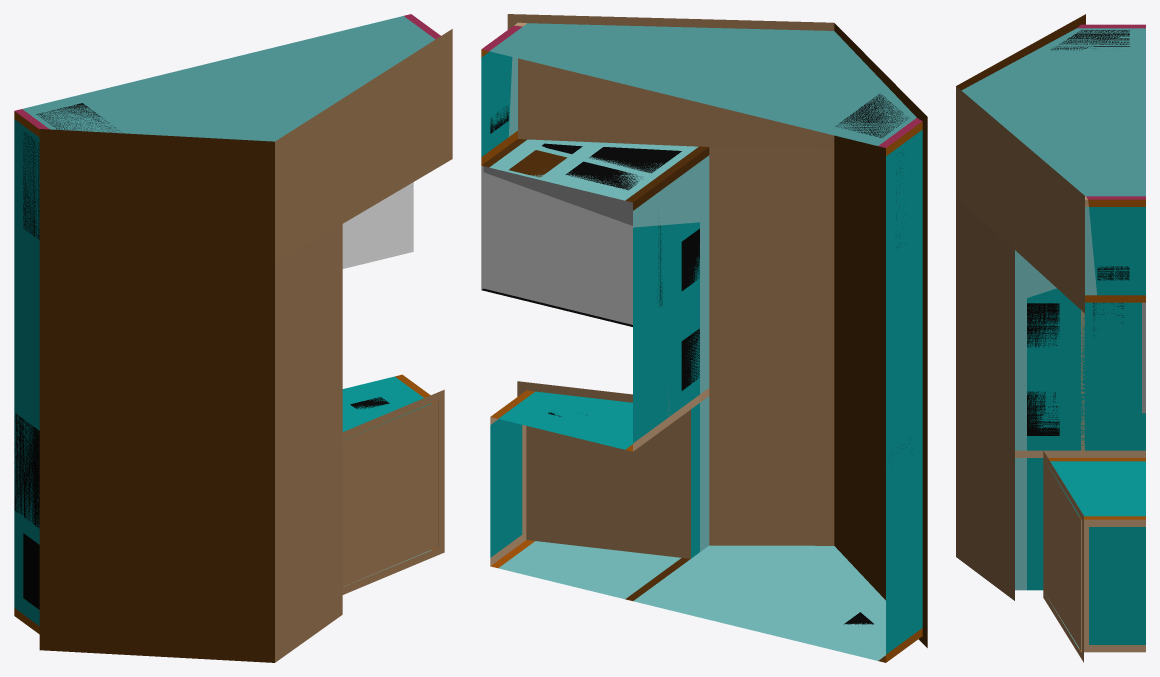
File: objs1_53.obj
The picture shows the model from 3 angles, left to right: view 1: azimuth 30°, elevation 25°; view 2: azimuth 150°, elevation 25°; view 3: azimuth 270°, elevation 25°; orthographic projection. The views are drawn at different scales.
Size of the model in its own units: 8.48 by 10.24 by 3.74.
